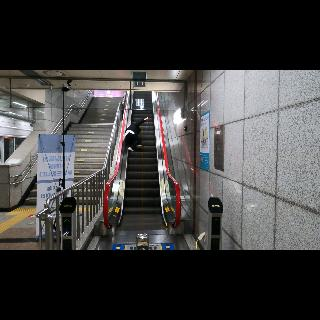anomaly: (121, 118, 153, 152)
